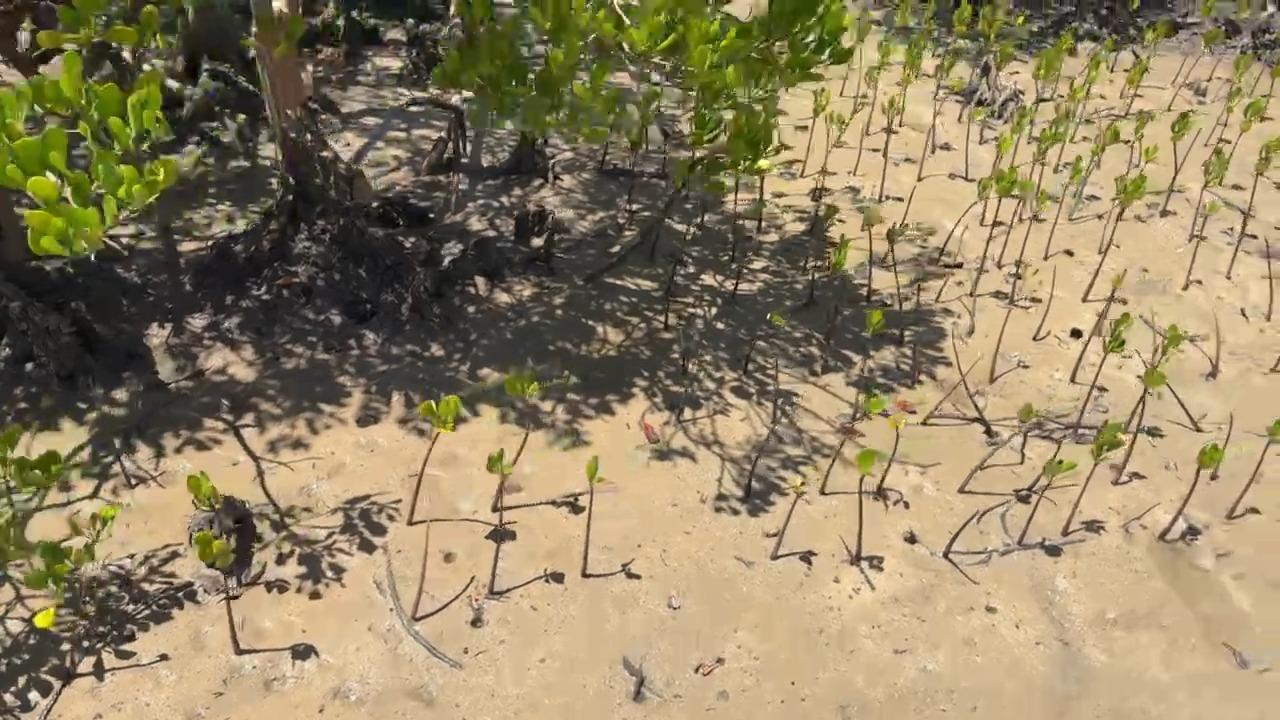Tree: (1082, 172, 1148, 301), (1224, 134, 1280, 280), (1060, 419, 1129, 536), (407, 395, 466, 524), (1072, 313, 1132, 435), (957, 404, 1034, 492), (1111, 366, 1167, 486), (1123, 325, 1187, 430), (491, 373, 540, 510), (1158, 443, 1226, 541), (971, 167, 1019, 295), (1069, 273, 1125, 381), (193, 531, 241, 655), (1225, 421, 1280, 519), (1017, 459, 1079, 545), (916, 77, 966, 182), (1166, 27, 1224, 112), (937, 176, 994, 261), (1218, 98, 1271, 189), (1043, 155, 1087, 257), (952, 330, 992, 436), (1162, 111, 1203, 214), (485, 447, 513, 594), (1189, 149, 1230, 243), (978, 44, 1017, 142), (923, 357, 979, 425), (865, 397, 905, 491), (1073, 124, 1121, 198), (852, 310, 884, 419), (1184, 198, 1221, 288), (997, 178, 1036, 263), (771, 476, 808, 560), (1018, 189, 1060, 262), (580, 456, 605, 577), (799, 87, 832, 176), (838, 8, 872, 93), (877, 93, 904, 200), (854, 447, 879, 558), (981, 134, 1013, 220), (857, 205, 885, 299), (866, 38, 893, 133), (897, 39, 925, 126), (1068, 143, 1100, 219), (187, 471, 224, 535), (1029, 118, 1067, 178), (1099, 174, 1127, 252), (886, 221, 910, 310), (409, 521, 431, 618), (932, 39, 966, 99), (942, 509, 980, 557), (1053, 104, 1080, 171), (1049, 32, 1075, 98), (990, 308, 1013, 382), (1033, 265, 1056, 338), (945, 0, 974, 57), (1083, 39, 1113, 94), (822, 109, 849, 170), (1210, 412, 1234, 479), (837, 92, 871, 139), (934, 42, 962, 99), (820, 437, 847, 494), (1034, 46, 1060, 105), (962, 106, 983, 179), (1008, 104, 1032, 167), (978, 0, 1009, 45), (1064, 84, 1085, 143), (1120, 60, 1149, 102), (1227, 54, 1252, 101), (826, 237, 849, 281), (1136, 109, 1154, 164), (811, 175, 826, 235), (918, 2, 941, 41), (887, 2, 915, 34), (1263, 236, 1273, 322), (1126, 131, 1144, 177), (1142, 20, 1170, 49), (977, 500, 1011, 523), (743, 457, 760, 498), (1211, 314, 1222, 377), (900, 187, 916, 228), (1209, 50, 1230, 80), (1139, 142, 1158, 175), (757, 176, 768, 233), (772, 359, 781, 423), (1252, 61, 1269, 94), (1206, 114, 1223, 146), (855, 46, 865, 96), (1268, 61, 1280, 102), (743, 341, 757, 374), (825, 306, 838, 341), (1171, 57, 1187, 85), (730, 268, 743, 295), (810, 270, 817, 301), (1271, 353, 1280, 371)
